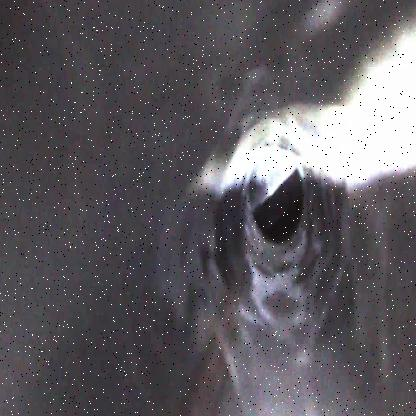Crack: (198, 108, 350, 335)
